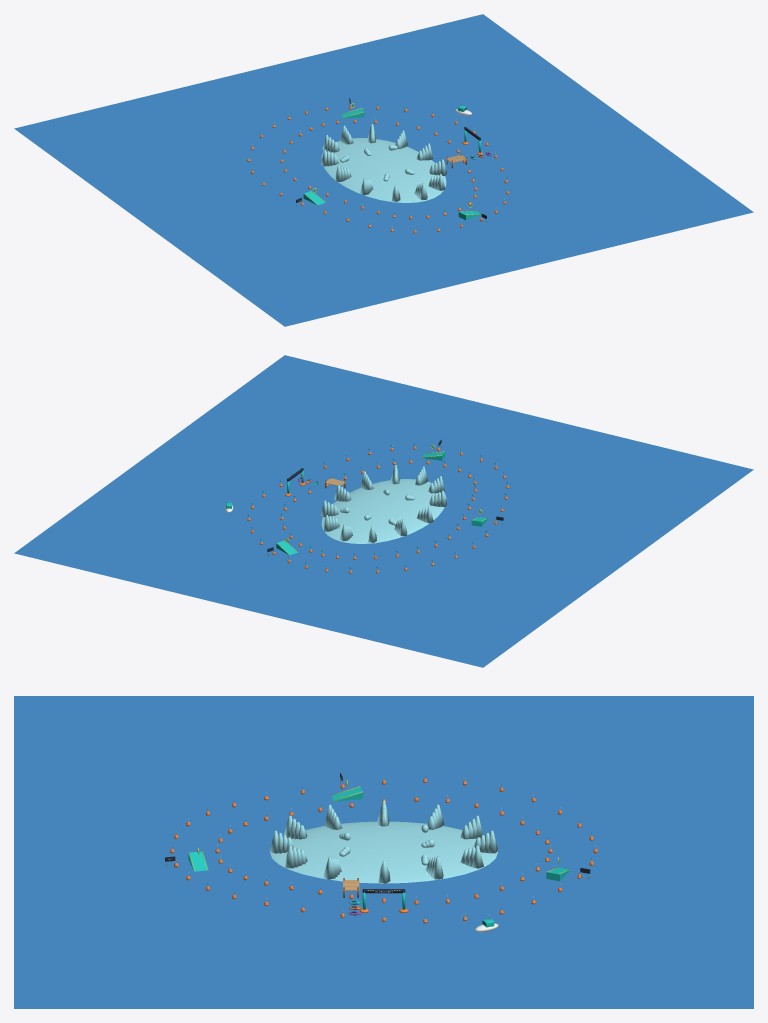
Rendered from Track_Glacier_Run.glb.
3 renders of one model, top to bottom at view 1: azimuth 30°, elevation 25°; view 2: azimuth 150°, elevation 25°; view 3: azimuth 270°, elevation 25°, orthographic. The views are drawn at different scales.
Parts seen in each view (by area): view 1: Water_preview_surface.003, Central_island.003; view 2: Water_preview_surface.003, Central_island.003; view 3: Water_preview_surface.003, Central_island.003.
Part boxes in pixels (left/top/right/bottom): Water_preview_surface.003: left=14, top=14, right=753, bottom=326; Central_island.003: left=321, top=138, right=446, bottom=202; Water_preview_surface.003: left=14, top=355, right=753, bottom=667; Central_island.003: left=321, top=479, right=446, bottom=543; Water_preview_surface.003: left=14, top=696, right=753, bottom=1008; Central_island.003: left=270, top=821, right=497, bottom=883.
Size of the model in its own units: 180 by 10.64 by 180.
